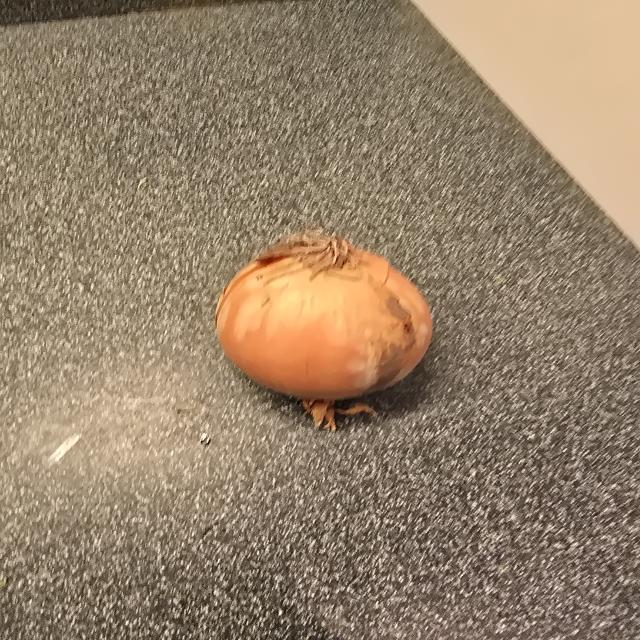Onion: (216, 232, 432, 429)
